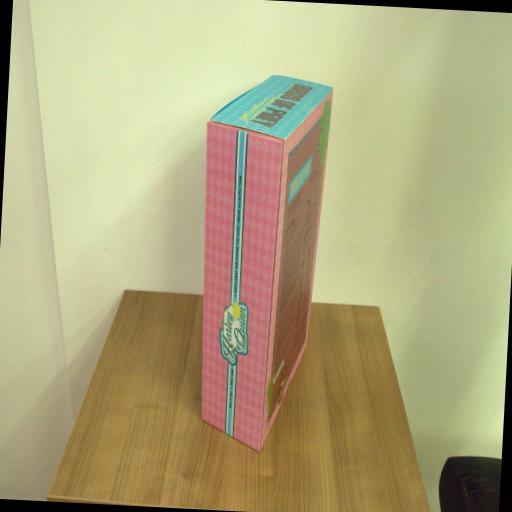Harley: (190, 70, 335, 454)
